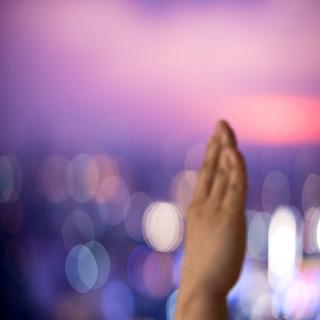RIGHT: (172, 112, 255, 294)
